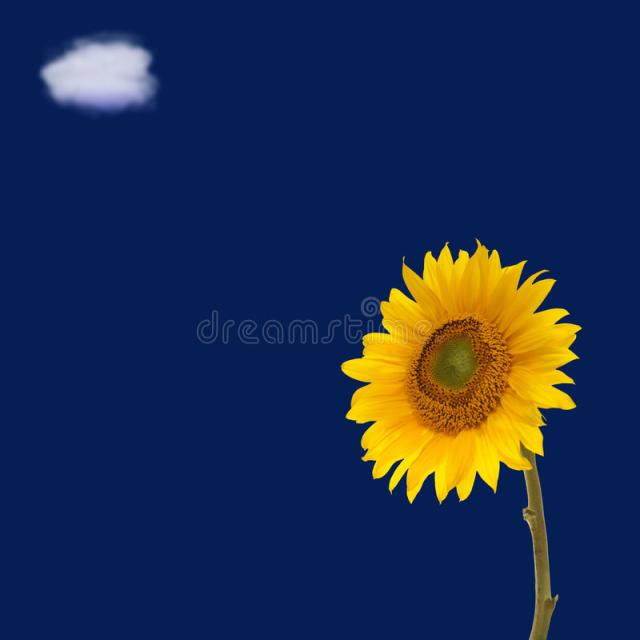sunflower: (336, 240, 592, 504)
